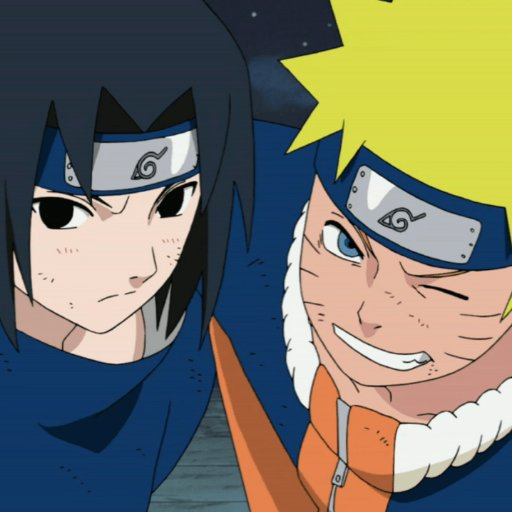naruto: (295, 128, 512, 389)
sasuke: (8, 119, 205, 337)
